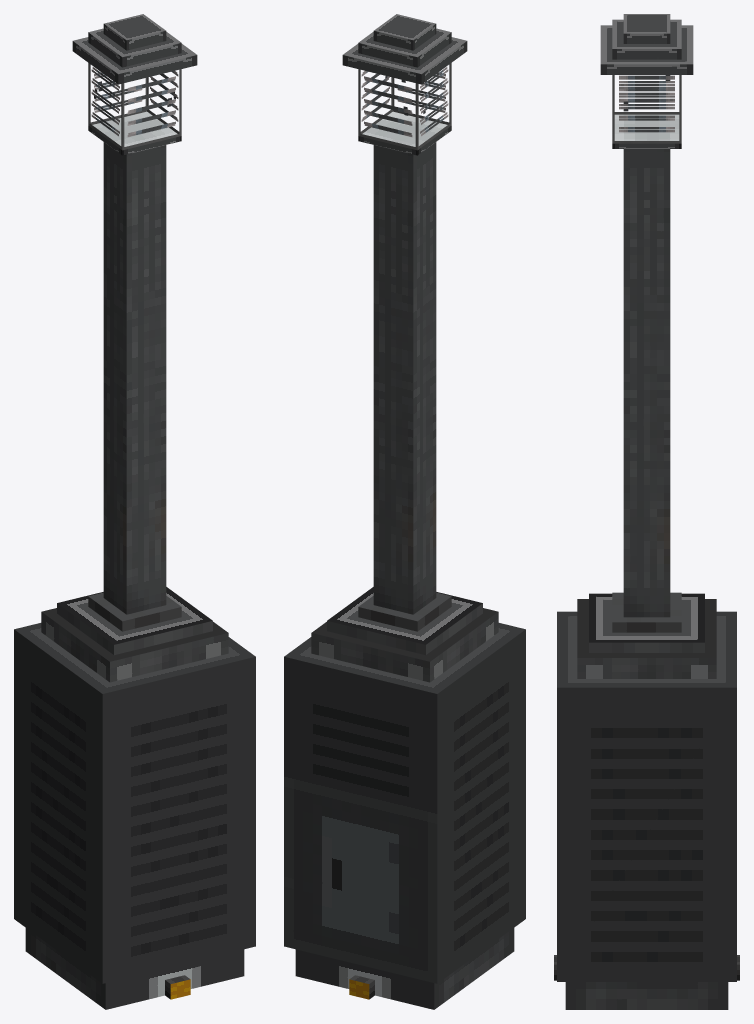
The model's file is body.obj.
3 views of the same model, side by side, from view 1: azimuth 30°, elevation 25°; view 2: azimuth 150°, elevation 25°; view 3: azimuth 270°, elevation 25° (orthographic).
Parts seen in each view (by area): view 1: power_box, pillar, wire_box, stem_ground_base, stem_base, top0, lamp_base, glass2, top1, top2, glass1, rim2 (+2 smaller); view 2: power_box, pillar, wire_box, stem_ground_base, stem_base, top0, lamp_base, glass3, top1, top2, glass1, glass2 (+2 smaller); view 3: power_box, pillar, stem_ground_base, wire_box, stem_base, top0, glass0, lamp_base, top1, top2, glass1, rim3.
Part boxes in pixels (x1,y1,x2,y2): power_box: [14, 623, 255, 983]; pillar: [103, 142, 166, 614]; wire_box: [25, 928, 244, 1009]; stem_ground_base: [41, 608, 228, 682]; stem_base: [57, 587, 212, 655]; top0: [72, 37, 197, 84]; lamp_base: [88, 111, 181, 155]; glass2: [122, 69, 181, 150]; top1: [88, 28, 181, 67]; top2: [103, 14, 166, 50]; glass1: [88, 63, 123, 149]; rim2: [116, 605, 171, 631]; power_box: [284, 623, 525, 983]; pillar: [373, 142, 436, 614]; wire_box: [295, 928, 514, 1009]; stem_ground_base: [311, 608, 498, 682]; stem_base: [327, 587, 482, 655]; top0: [342, 37, 467, 84]; lamp_base: [358, 111, 451, 155]; glass3: [358, 69, 417, 150]; top1: [358, 28, 451, 67]; top2: [373, 14, 436, 50]; glass1: [416, 63, 451, 149]; glass2: [392, 63, 451, 125]; power_box: [557, 611, 736, 981]; pillar: [623, 149, 670, 617]; stem_ground_base: [577, 599, 716, 678]; wire_box: [565, 982, 728, 1009]; stem_base: [589, 593, 704, 652]; top0: [600, 25, 693, 74]; glass0: [612, 75, 681, 143]; lamp_base: [612, 114, 681, 148]; top1: [612, 19, 681, 59]; top2: [623, 14, 670, 43]; glass1: [614, 75, 679, 114]; rim3: [612, 617, 670, 632].
Bounding box in the file's own units: 0.9688 × 5.66 × 1.
